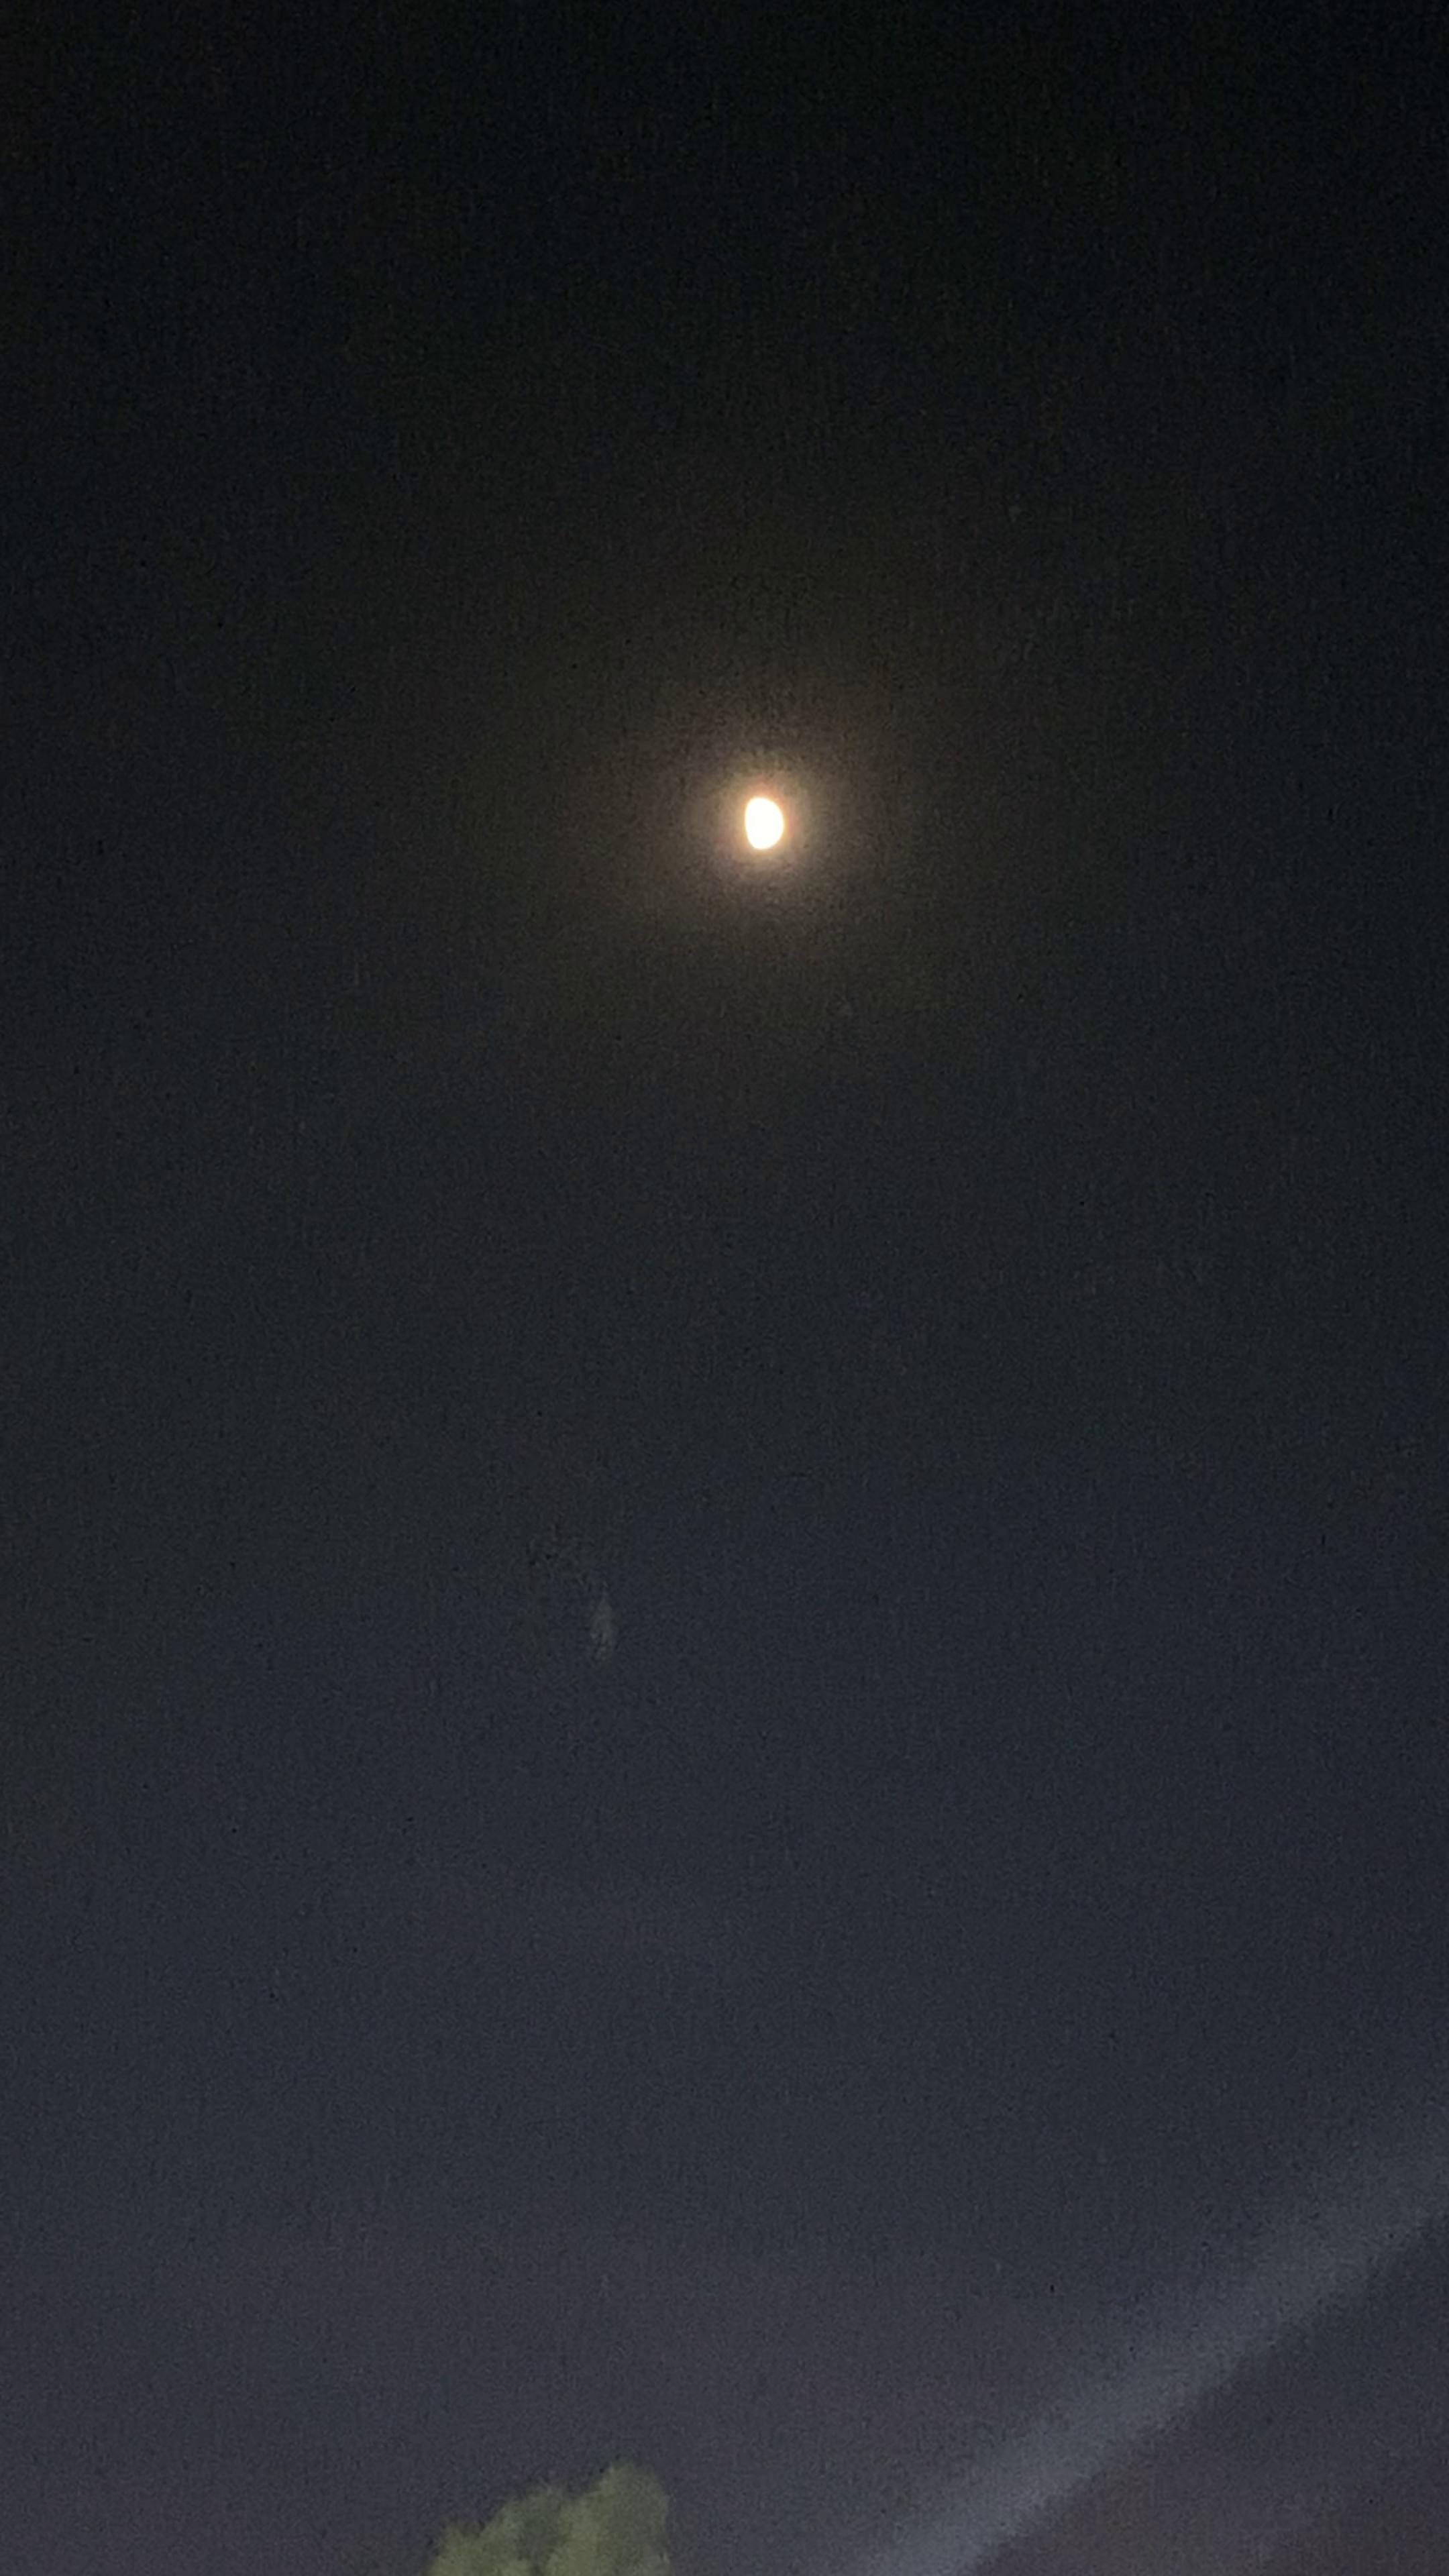moon: (713, 764, 830, 892)
